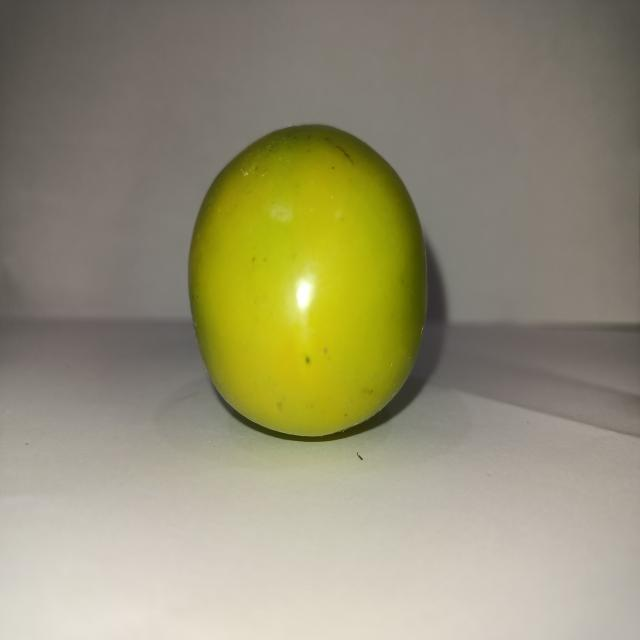Red: (186, 121, 429, 440)
